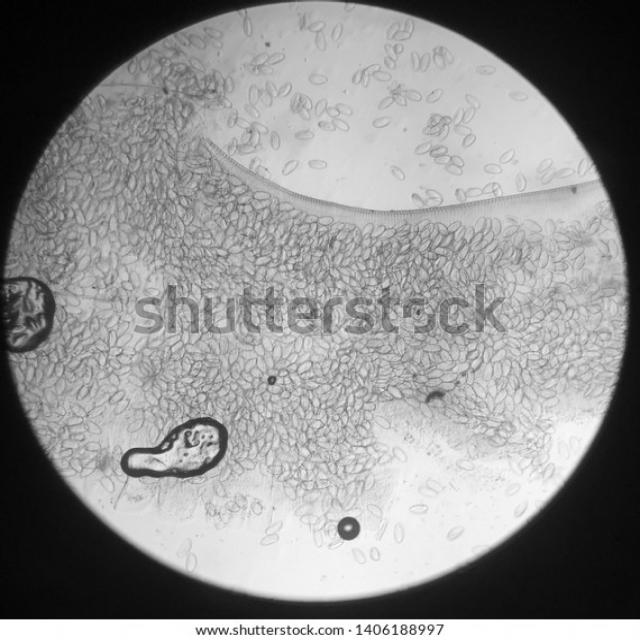Enterobius Vermicularis: (114, 414, 232, 484)
